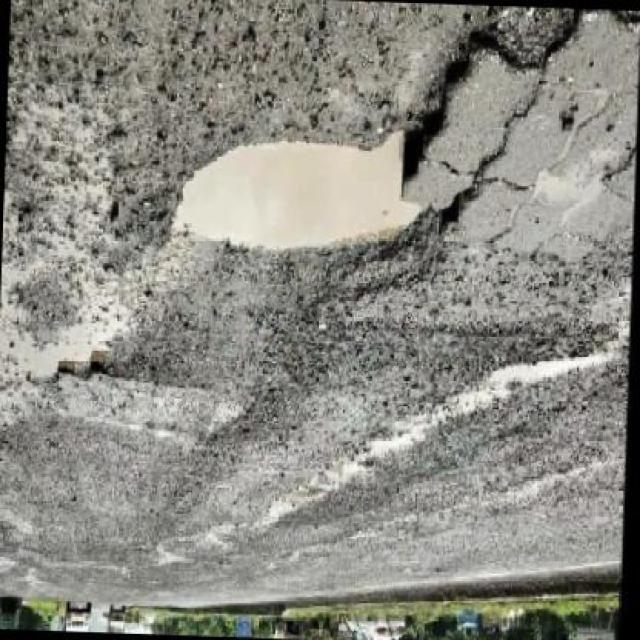pothole: (168, 116, 477, 276)
